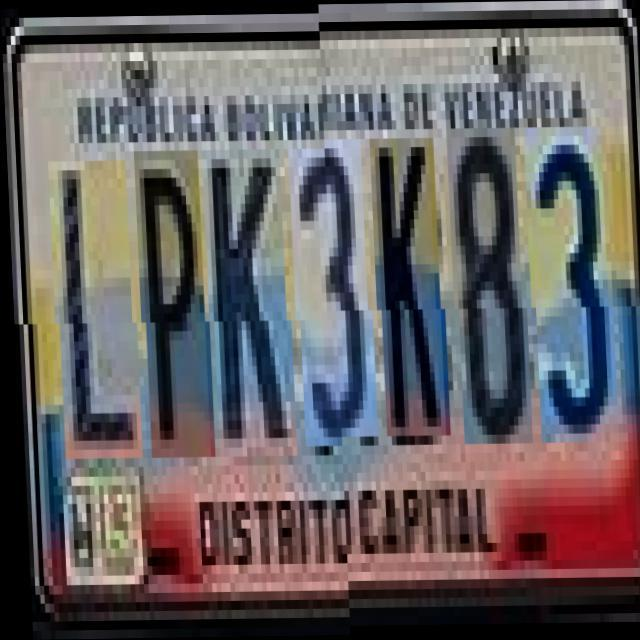3: (527, 138, 615, 454), (292, 149, 374, 447)
8: (450, 138, 529, 454)
K: (205, 150, 293, 457), (373, 148, 447, 446)
L: (52, 161, 138, 459)
P: (137, 151, 211, 458)
